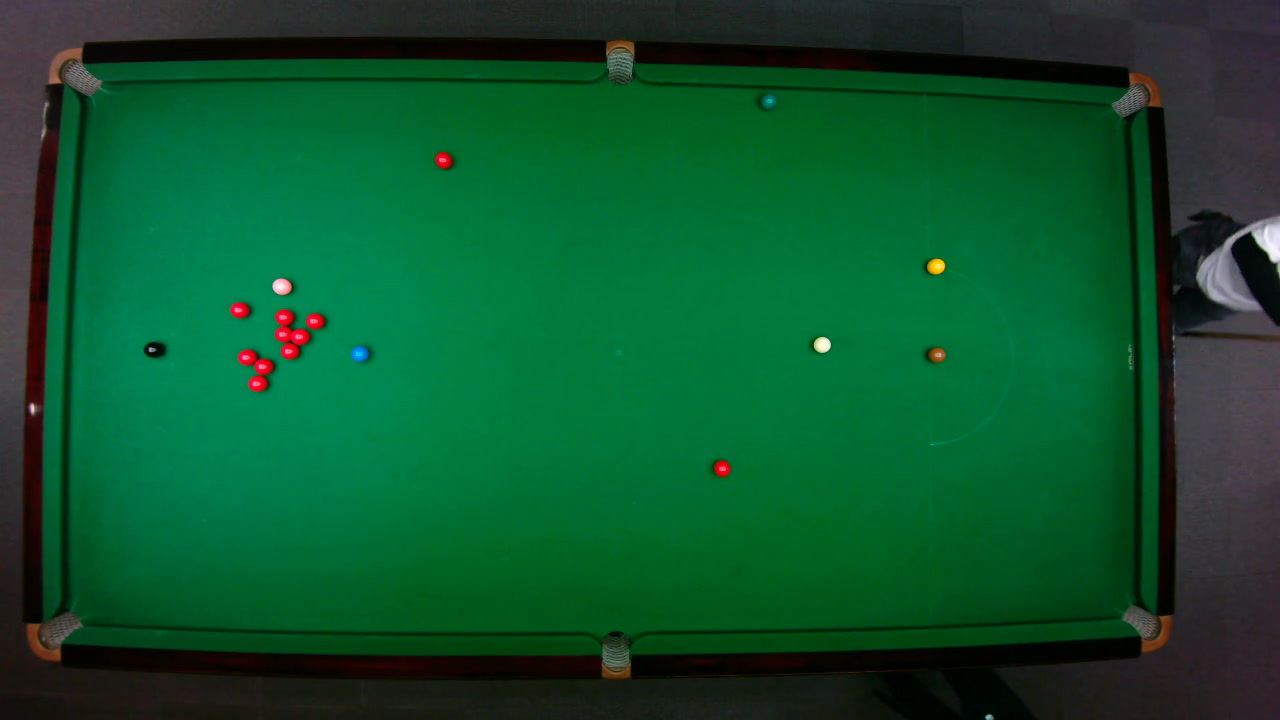bag: (24, 609, 84, 661), (45, 46, 102, 96), (1119, 602, 1171, 652), (1109, 71, 1161, 117), (601, 629, 629, 680), (605, 38, 633, 85)
black: (142, 340, 164, 357)
blue: (350, 344, 369, 362)
brown: (926, 346, 946, 362)
green: (759, 92, 776, 110)
pink: (270, 276, 292, 295)
red: (287, 326, 310, 345), (252, 356, 274, 375), (235, 347, 257, 366), (273, 307, 294, 326), (246, 374, 268, 392), (228, 300, 250, 318), (433, 150, 453, 169), (712, 458, 731, 477), (304, 311, 324, 329), (279, 342, 300, 359), (273, 325, 292, 342)
white: (811, 335, 831, 353)
yellow: (925, 257, 945, 274)
zone: (926, 265, 1013, 445)
